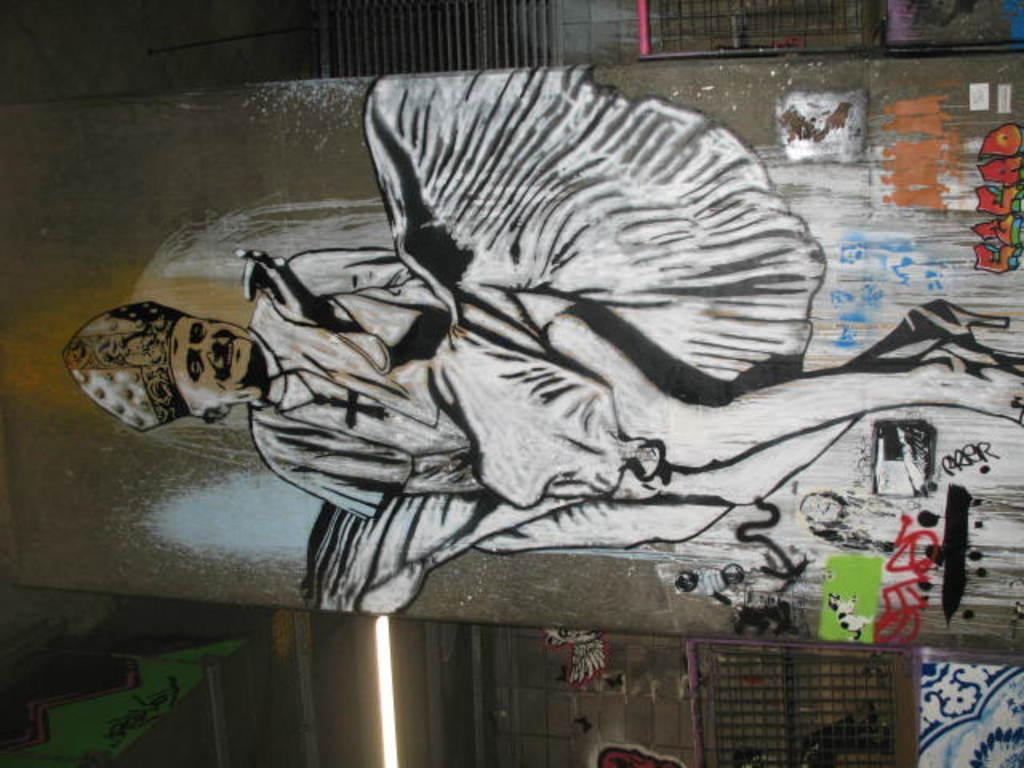Sem Máscara: (167, 311, 257, 409)
